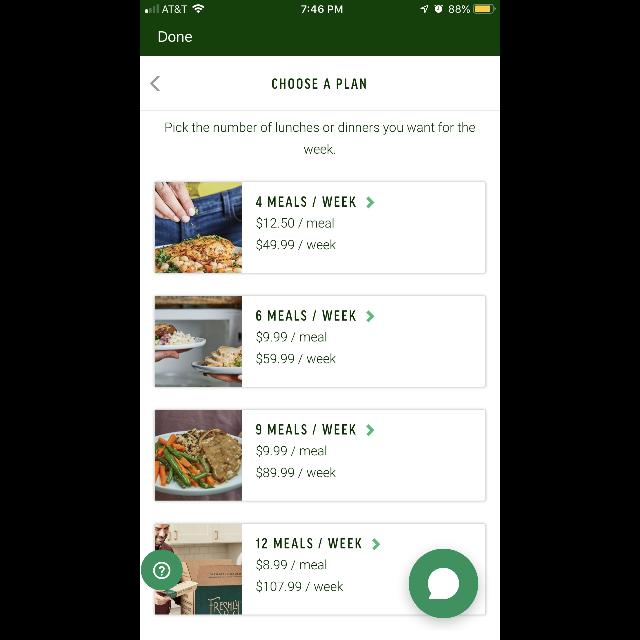icon: (409, 548, 478, 618), (141, 550, 183, 590), (150, 77, 160, 91), (366, 197, 374, 209), (367, 310, 375, 322), (367, 424, 375, 436), (372, 538, 380, 550)
image: (154, 411, 242, 501), (154, 297, 242, 387), (156, 524, 242, 614), (156, 183, 242, 273)
text: (167, 122, 476, 154), (256, 196, 356, 208), (256, 310, 356, 322), (256, 424, 356, 436), (272, 78, 366, 90), (256, 538, 362, 548), (257, 580, 343, 592), (256, 239, 336, 251), (256, 353, 336, 365), (256, 467, 336, 479), (256, 217, 334, 229), (256, 331, 326, 343), (256, 445, 326, 457), (256, 559, 326, 571), (160, 32, 192, 42)
uppertaskbar: (140, 0, 500, 14)
